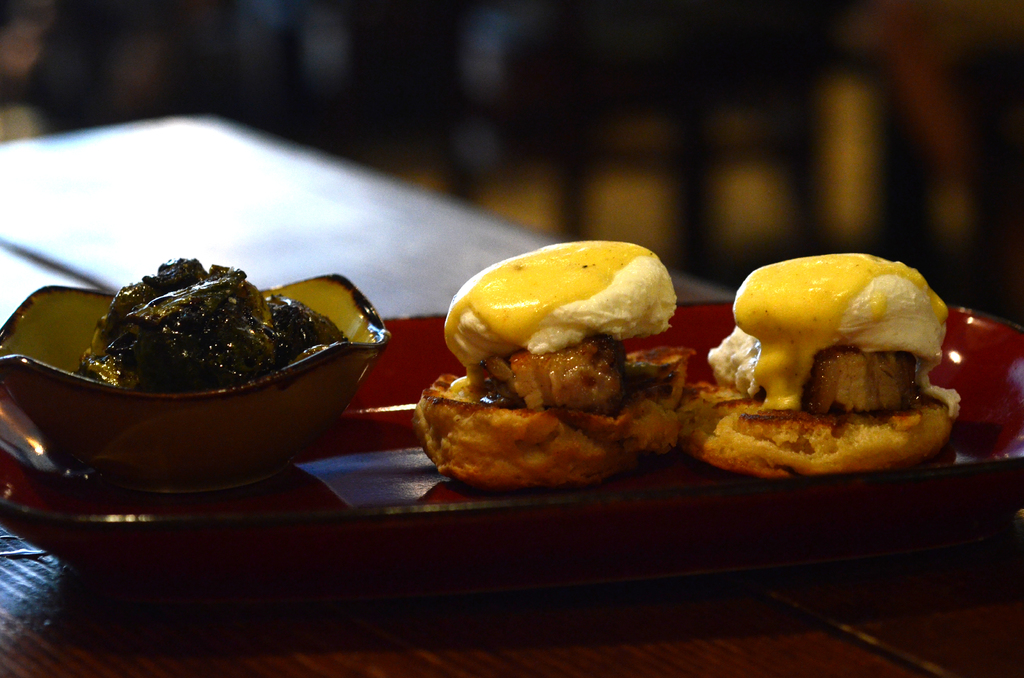Hamburger: (412, 241, 696, 487), (683, 251, 958, 480)
